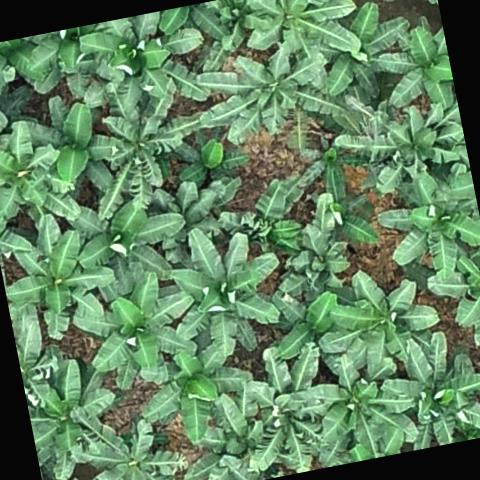Banana-plant: (162, 219, 288, 365), (192, 35, 344, 144), (76, 5, 210, 121), (0, 210, 120, 339), (79, 270, 202, 394), (330, 92, 471, 199), (230, 345, 338, 480), (370, 159, 480, 290), (70, 182, 192, 300), (133, 340, 260, 450), (374, 326, 480, 454), (329, 260, 442, 376), (22, 357, 126, 480), (310, 354, 424, 466), (95, 80, 201, 191), (26, 84, 124, 196), (313, 0, 417, 104), (0, 114, 81, 232), (373, 12, 458, 117), (173, 395, 273, 480), (269, 279, 352, 380), (241, 0, 359, 68), (73, 416, 188, 480), (216, 181, 302, 263), (268, 220, 356, 298), (421, 243, 480, 354), (308, 164, 377, 250), (147, 175, 224, 252), (296, 126, 371, 205), (24, 22, 112, 82), (196, 0, 281, 58)
